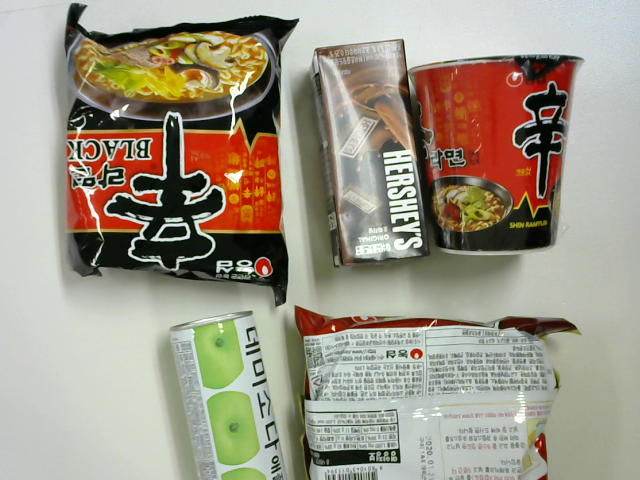Demisoda_Apple_Can_250ml: (165, 310, 295, 480)
Hush_Choco_Drink: (311, 38, 433, 268)
Sichuan_Chapaghetti: (295, 308, 574, 480)
Sinramen_Black: (65, 4, 295, 304)
Sinramen_small: (405, 60, 583, 256)
